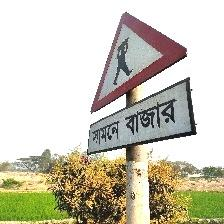Market-in-front: (89, 11, 197, 156)
